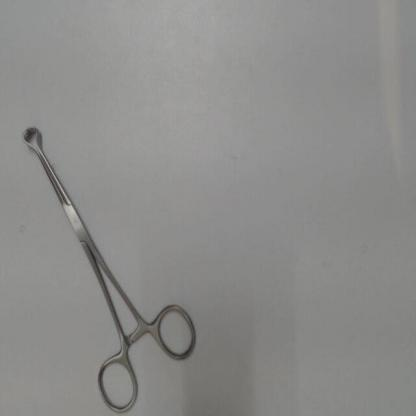Babcock Tissue Forceps: (18, 119, 201, 413)
